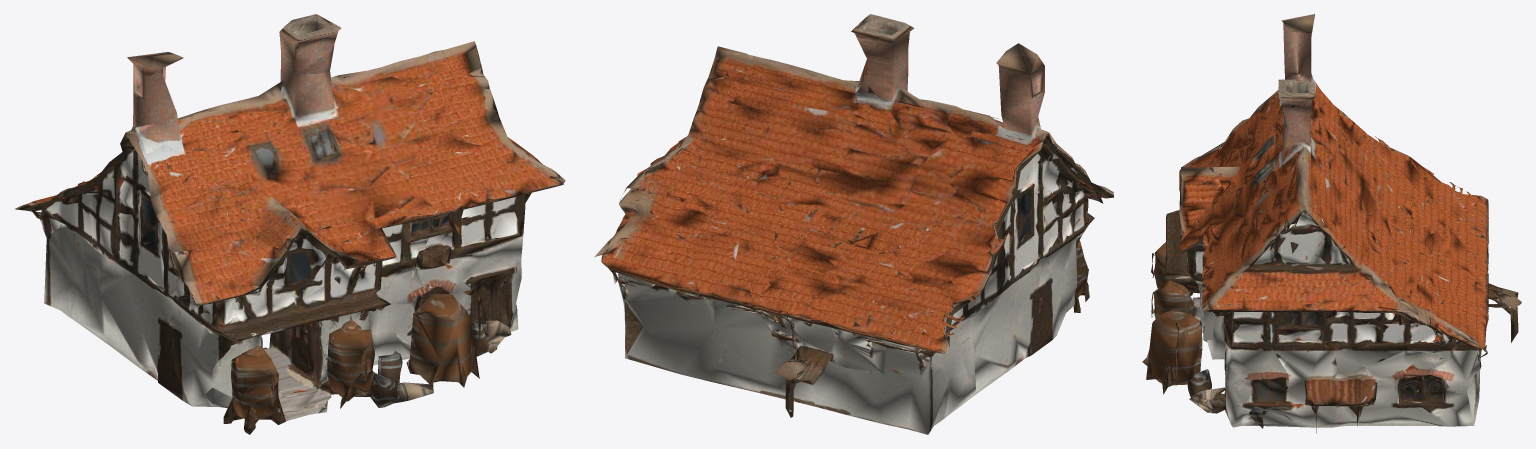
File: brauerei.glb
The picture shows the model from 3 angles, left to right: view 1: azimuth 30°, elevation 25°; view 2: azimuth 150°, elevation 25°; view 3: azimuth 270°, elevation 25°; orthographic projection. The views are drawn at different scales.
Bounding box in the file's own units: 1.89 × 1.53 × 1.89.
1 material, 1 textured.
